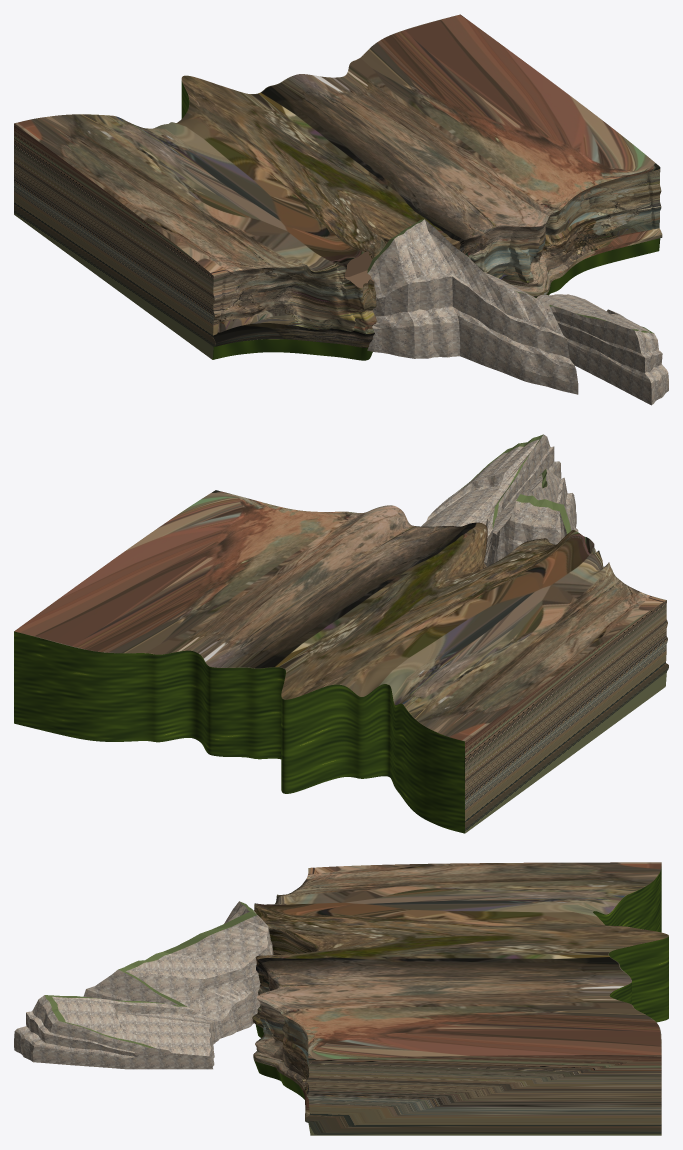
Rendered from cliff-blueprint.glb.
3 renders of one model, top to bottom at view 1: azimuth 30°, elevation 25°; view 2: azimuth 150°, elevation 25°; view 3: azimuth 270°, elevation 25°, orthographic. The views are drawn at different scales.
Parts seen in each view (by area): view 1: Sunset headland | integrated bedrock and meadow; view 2: Sunset headland | integrated bedrock and meadow; view 3: Sunset headland | integrated bedrock and meadow.
Part boxes in pixels (box(x1,y1,x2,y2)): Sunset headland | integrated bedrock and meadow: box(14, 14, 668, 405); Sunset headland | integrated bedrock and meadow: box(14, 434, 668, 833); Sunset headland | integrated bedrock and meadow: box(14, 862, 668, 1135).
Size of the model in its own units: 40 by 10.48 by 57.5.
Materials: 4 (3 with a texture image).
